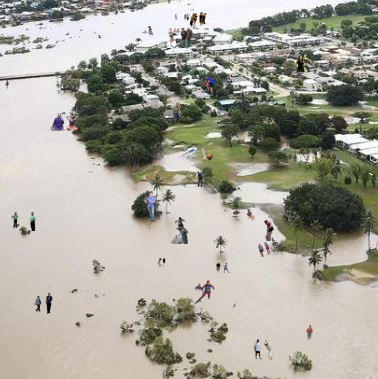Human: (49, 113, 79, 131), (166, 28, 193, 48), (34, 286, 53, 314), (253, 339, 276, 362), (178, 148, 213, 163), (172, 12, 207, 27), (286, 54, 315, 72), (170, 217, 189, 244), (194, 280, 215, 304), (152, 56, 183, 72), (11, 212, 36, 231), (291, 325, 313, 343), (143, 192, 156, 222), (201, 75, 215, 96), (171, 102, 181, 124), (264, 220, 274, 241), (258, 242, 271, 257), (216, 262, 230, 273), (157, 258, 166, 270), (246, 209, 255, 220), (146, 26, 154, 38), (197, 171, 203, 187), (320, 22, 328, 31), (230, 141, 236, 148), (5, 80, 9, 89), (242, 88, 244, 103), (135, 38, 142, 42), (258, 120, 262, 125), (237, 187, 241, 192), (233, 302, 236, 308)
